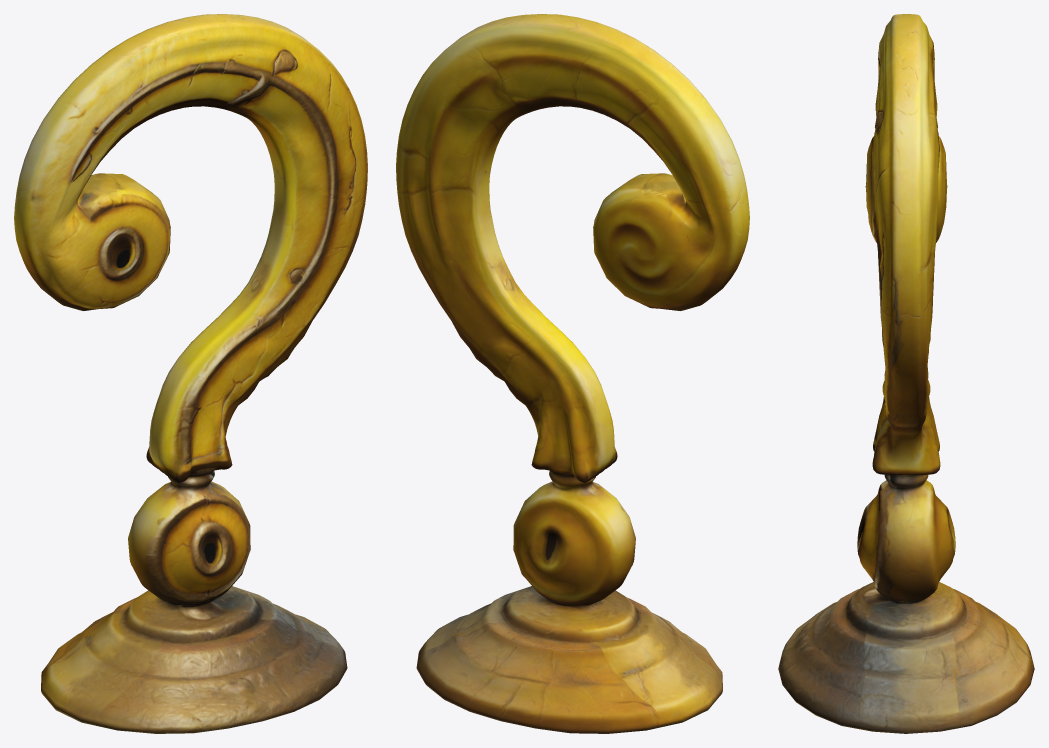
The model's file is quest_complete.fbx.
The picture shows the model from 3 angles, left to right: view 1: azimuth 30°, elevation 25°; view 2: azimuth 150°, elevation 25°; view 3: azimuth 270°, elevation 25°; orthographic projection. The views are drawn at different scales.
Parts seen in each view (by area): view 1: Mesh1_Mesh1.022; view 2: Mesh1_Mesh1.022; view 3: Mesh1_Mesh1.022.
Boxes of the visible parts, left/top/right/bottom form: Mesh1_Mesh1.022: left=14, top=14, right=367, bottom=733; Mesh1_Mesh1.022: left=396, top=14, right=749, bottom=733; Mesh1_Mesh1.022: left=778, top=14, right=1034, bottom=733.
Size of the model in its own units: 110 by 200 by 73.05.
Materials: 1 (1 with a texture image).
